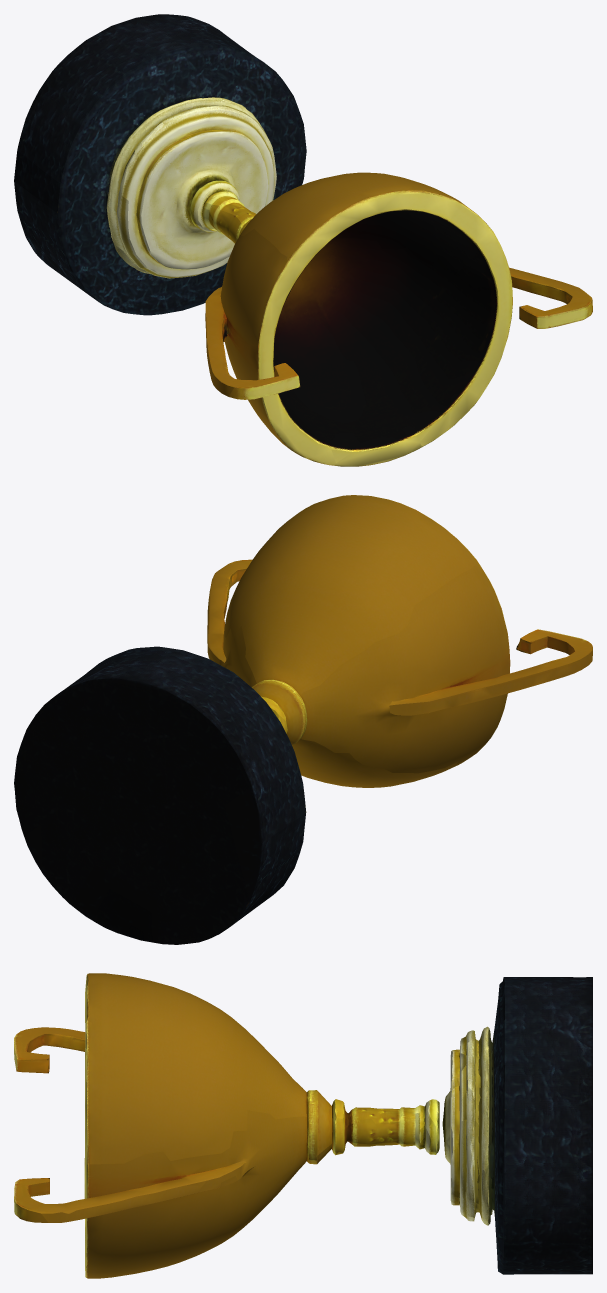
Rendered from trophy-output.glb.
3 views of the same model, one above another, from view 1: azimuth 30°, elevation 25°; view 2: azimuth 150°, elevation 25°; view 3: azimuth 270°, elevation 25° (orthographic). The views are drawn at different scales.
Visible parts, largest first — view 1: world; view 2: world; view 3: world.
Part boxes in pixels (left/top/right/bottom): world: left=14, top=14, right=592, bottom=466; world: left=14, top=495, right=592, bottom=944; world: left=14, top=973, right=592, bottom=1278.
Size of the model in its own units: 0.754 by 0.5252 by 1.
1 material, 1 textured.
